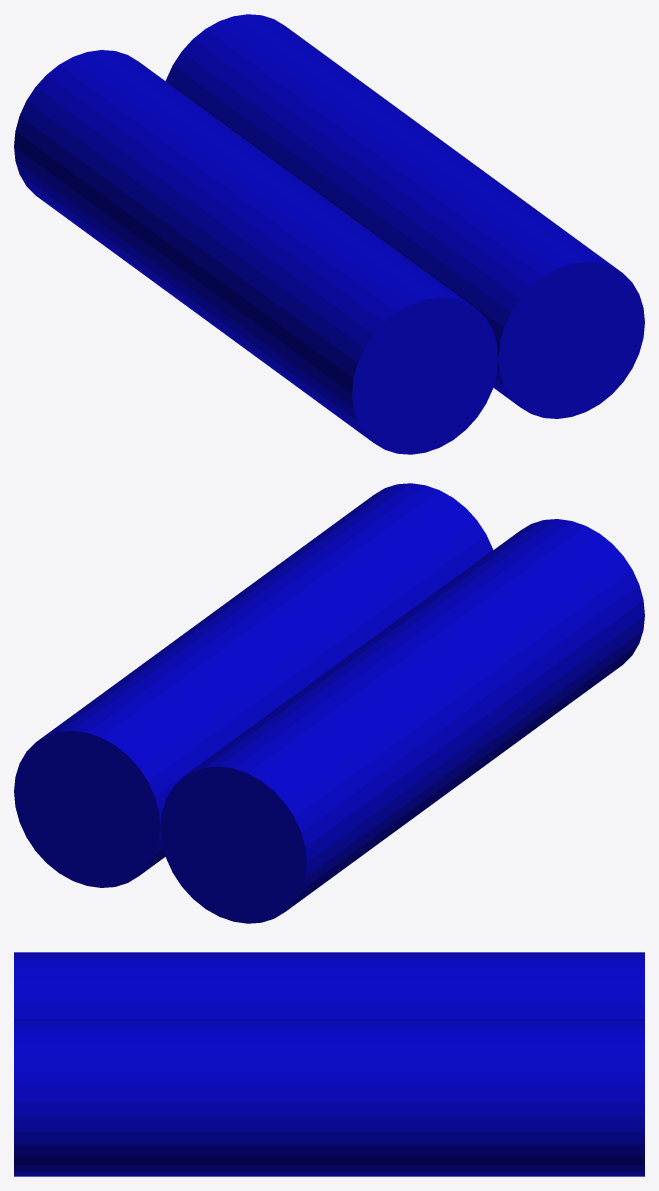
The model's file is TurretHead.obj.
3 renders of one model, top to bottom at view 1: azimuth 30°, elevation 25°; view 2: azimuth 150°, elevation 25°; view 3: azimuth 270°, elevation 25°, orthographic. The views are drawn at different scales.
Visible parts, largest first — view 1: Cylinder, Cylinder.001; view 2: Cylinder, Cylinder.001; view 3: Cylinder.001, Cylinder.
Part boxes in pixels (x1=…): Cylinder: x1=14, y1=50, x2=498, y2=454; Cylinder.001: x1=166, y1=14, x2=644, y2=418; Cylinder: x1=160, y1=519, x2=644, y2=923; Cylinder.001: x1=14, y1=483, x2=492, y2=887; Cylinder.001: x1=14, y1=1019, x2=644, y2=1176; Cylinder: x1=14, y1=952, x2=644, y2=1018.
Size of the model in its own units: 2 by 1 by 4.
